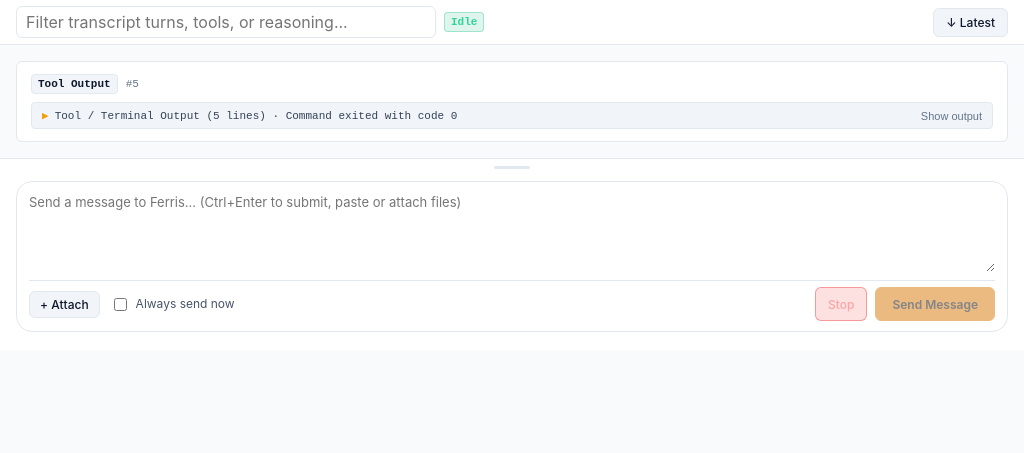
background task output guard › renders mislabeled background task completions as collapsed Tool Output, not Operator
Expected: the text "Tool Output" is shown, [31,74,118,94]
Click the button with test id "turn-tool-output-toggle-5" at (256, 116), box [32,103,992,128]
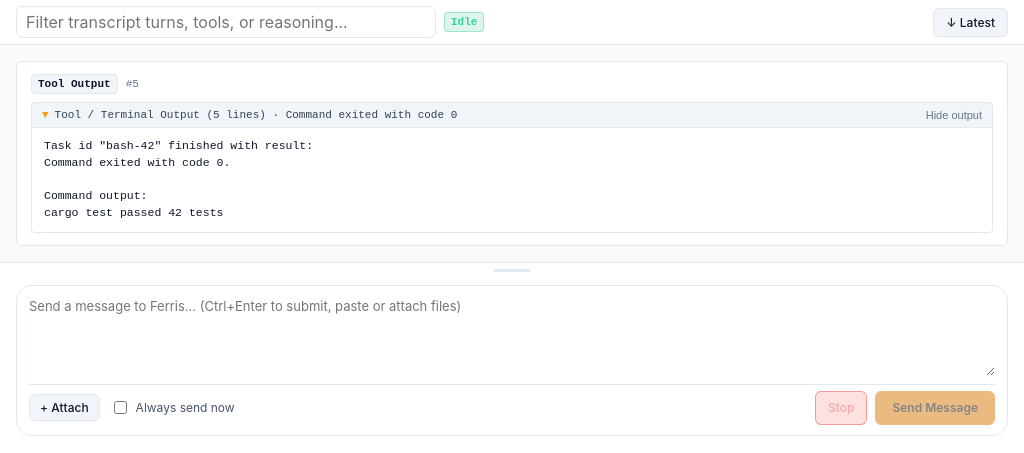
Result: the text "cargo test passed 42 tests" is shown at [44,139,313,219]
